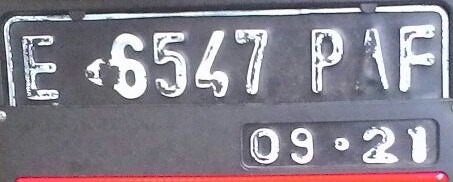plate: (5, 3, 453, 173)
